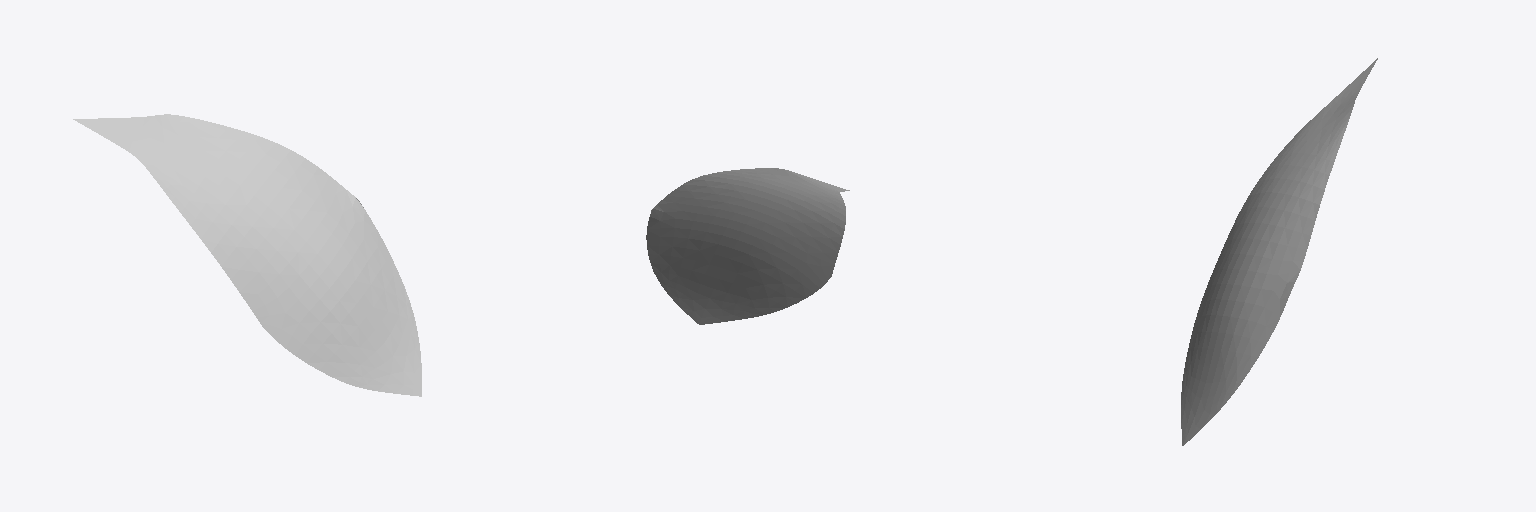
File: leaf2.obj
3 views of the same model, side by side, from view 1: azimuth 30°, elevation 25°; view 2: azimuth 150°, elevation 25°; view 3: azimuth 270°, elevation 25° (orthographic).
Parts seen in each view (by area): view 1: new_plant_1:planarTrimmedSurface2 Plant_Model; view 2: new_plant_1:planarTrimmedSurface2 Plant_Model; view 3: new_plant_1:planarTrimmedSurface2 Plant_Model.
Part boxes in pixels (x1,y1,x2,y2): new_plant_1:planarTrimmedSurface2 Plant_Model: (73, 114, 421, 396); new_plant_1:planarTrimmedSurface2 Plant_Model: (646, 168, 849, 324); new_plant_1:planarTrimmedSurface2 Plant_Model: (1181, 58, 1377, 445).
Size of the model in its own units: 6.48 by 6.17 by 4.15.